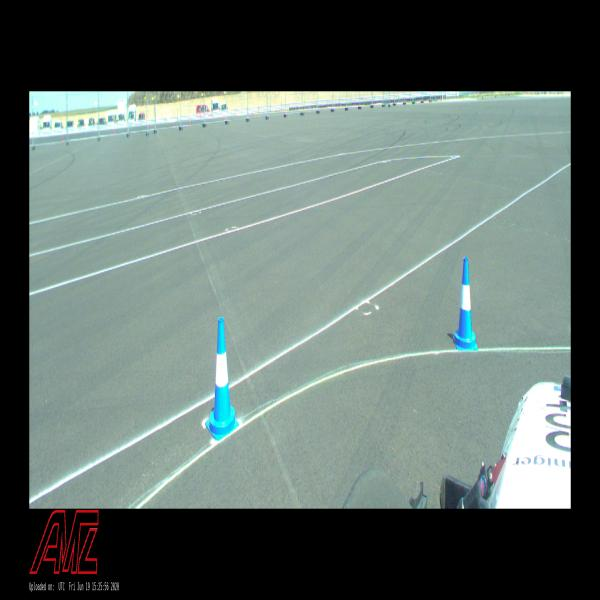blue_cone: (205, 317, 239, 441), (453, 257, 478, 351)
